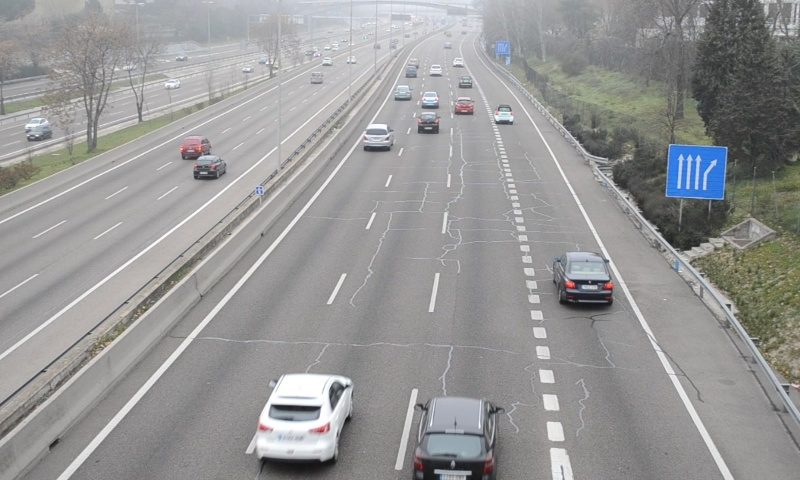car: (256, 374, 354, 466), (412, 397, 498, 480), (552, 249, 616, 306), (362, 123, 394, 152), (417, 112, 440, 134), (493, 103, 515, 125), (454, 96, 474, 116), (393, 85, 414, 102), (420, 90, 438, 108)
